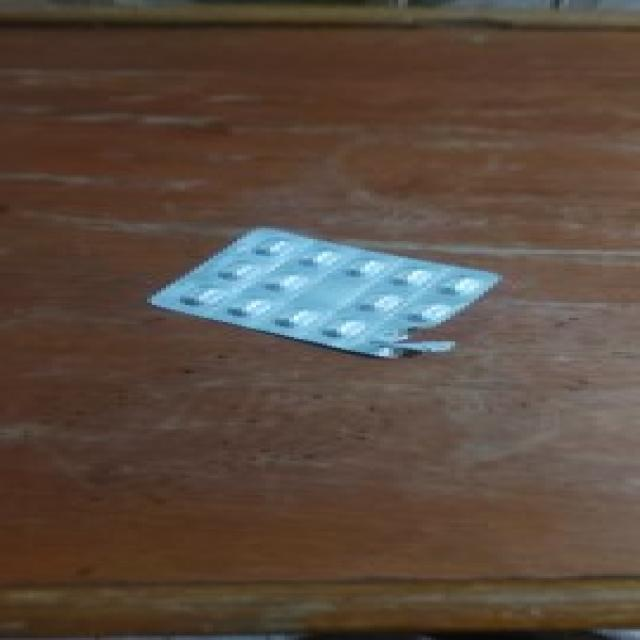Cacat: (143, 227, 502, 359)
Kemasan: (365, 325, 474, 358)
